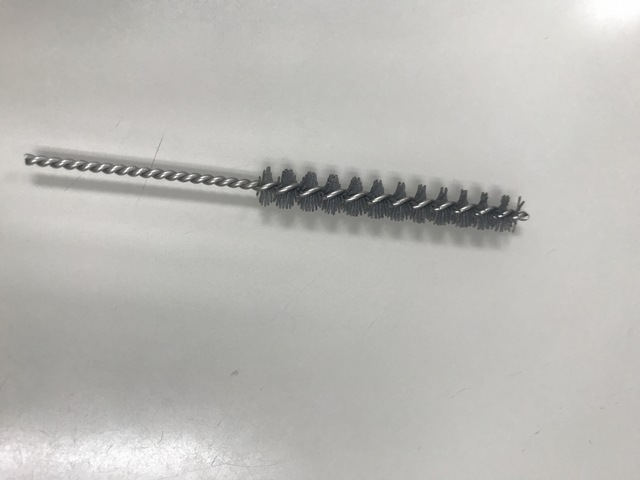Twist Brush-A: (20, 143, 531, 240)
